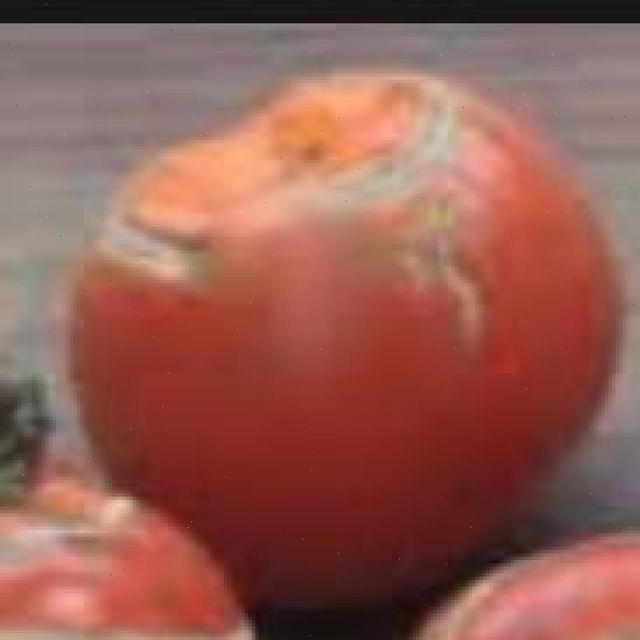Cracking Fruit: (69, 91, 295, 184)
